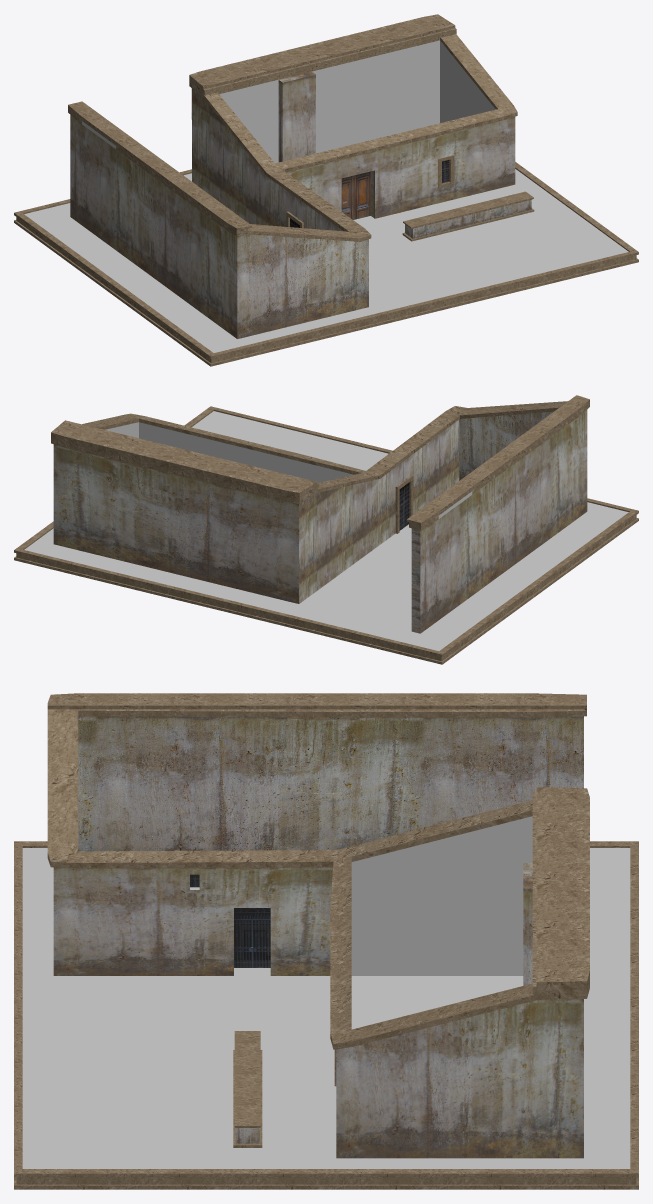
File: objHouse.obj
The picture shows the model from 3 angles, top to bottom: view 1: azimuth 30°, elevation 25°; view 2: azimuth 150°, elevation 25°; view 3: azimuth 270°, elevation 25°; orthographic projection. The views are drawn at different scales.
Parts seen in each view (by area): view 1: objHouse; view 2: objHouse; view 3: objHouse.
Part boxes in pixels (x1,y1,x2,y2): objHouse: (14,14,638,366); objHouse: (14,395,638,664); objHouse: (14,693,638,1189).
Size of the model in its own units: 74.19 by 20.03 by 59.
